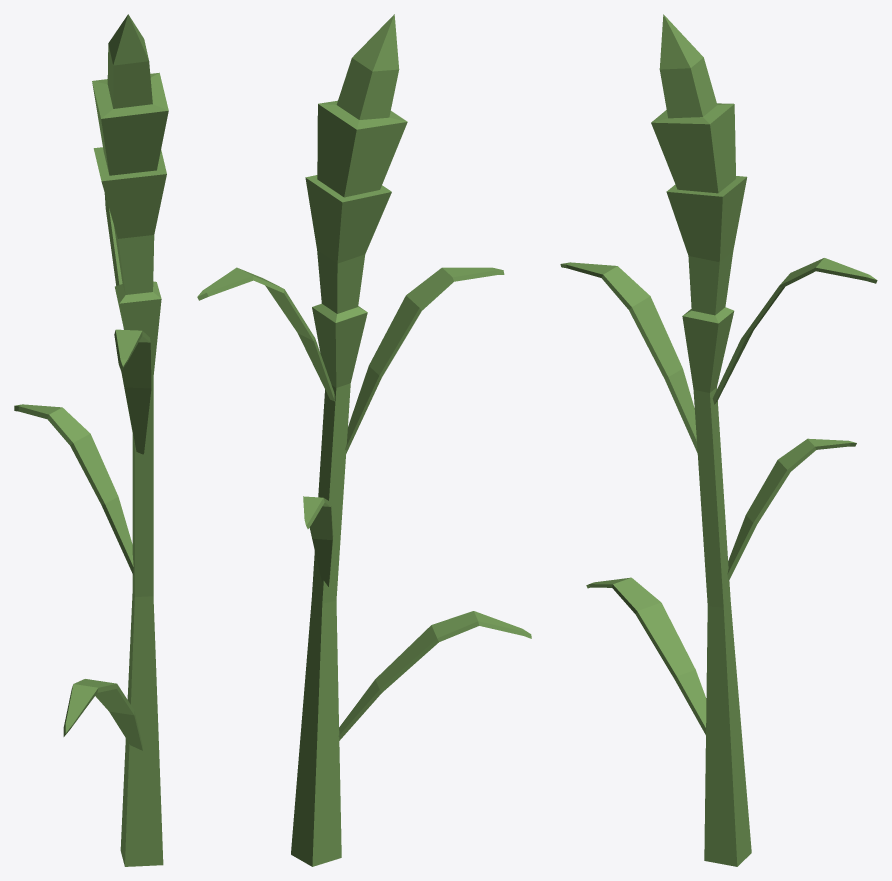
Rendered from Wheat_3.gltf.
The picture shows the model from 3 angles, left to right: view 1: azimuth 30°, elevation 25°; view 2: azimuth 150°, elevation 25°; view 3: azimuth 270°, elevation 25°; orthographic projection. The views are drawn at different scales.
Parts seen in each view (by area): view 1: Wheat_3; view 2: Wheat_3; view 3: Wheat_3.
Boxes of the visible parts, x1,y1,x2,y2 form: Wheat_3: (14,14,168,866); Wheat_3: (197,14,531,866); Wheat_3: (560,14,877,866).
Bounding box in the file's own units: 0.1648 × 0.6943 × 0.2431.
